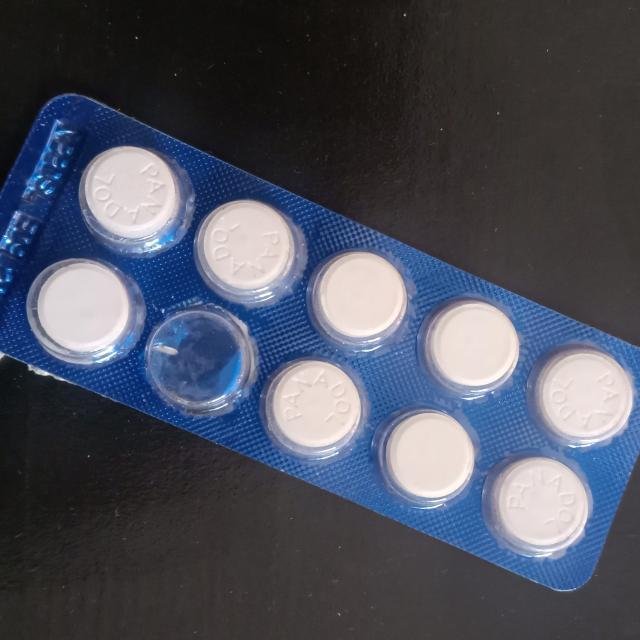defect: (141, 309, 263, 418)
